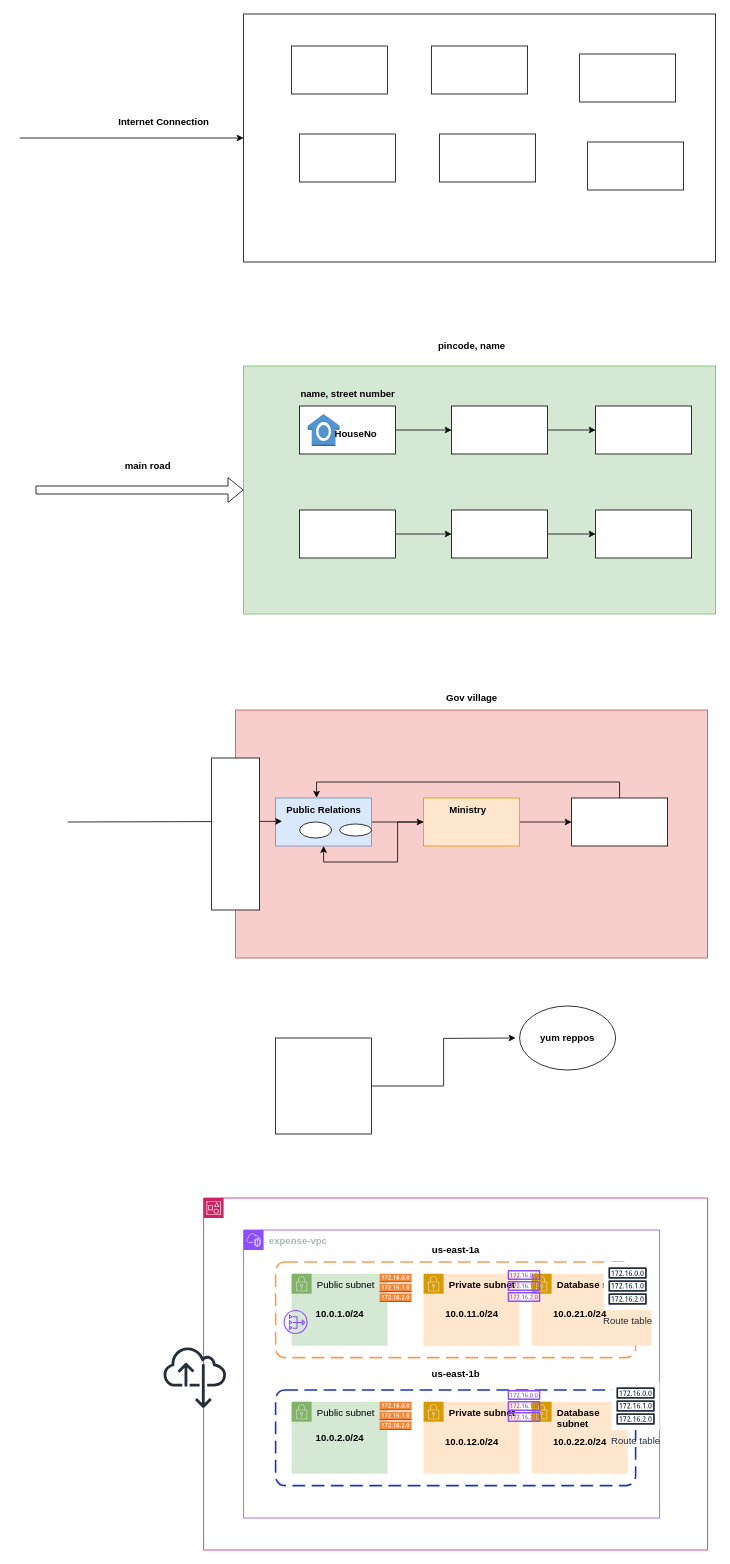
Image size: 730x1564. Some labels were removed from this diagram. The box of each missing label's shape, as (x1, y1, x2, y2) in pixels:
AWS Account: (203, 1197, 708, 1550)
DB yum install mysql-server: (275, 1037, 372, 1134)
Main Entrance: (211, 757, 260, 910)
NAT: (339, 823, 372, 836)
PMO: (571, 797, 668, 846)
PR: (299, 821, 332, 838)
